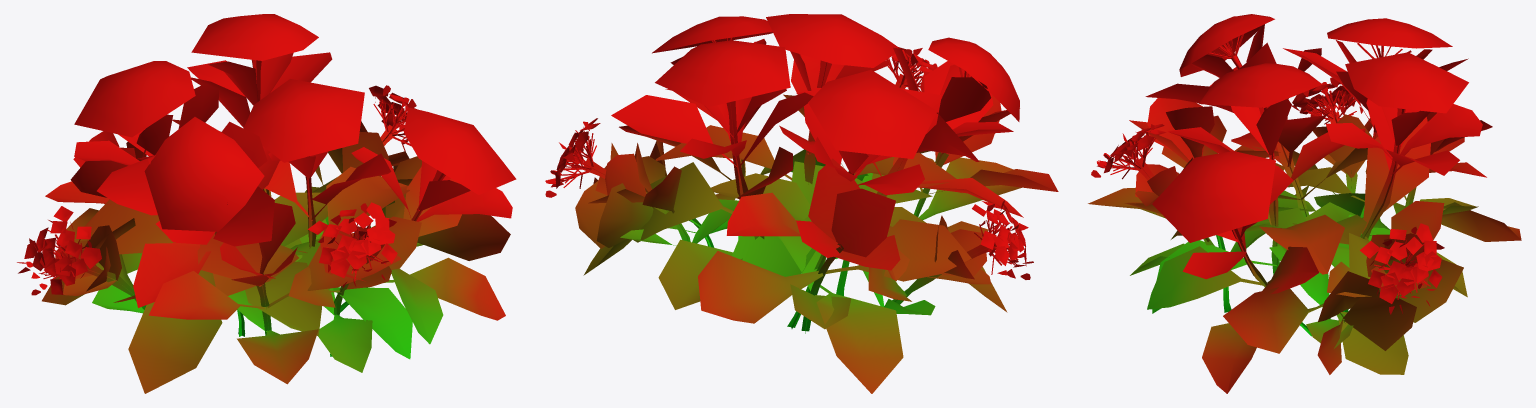
File: Var9_LOD4.fbx
3 views of the same model, side by side, from view 1: azimuth 30°, elevation 25°; view 2: azimuth 150°, elevation 25°; view 3: azimuth 270°, elevation 25° (orthographic). The views are drawn at different scales.
Visible parts, largest first — view 1: _ao73_Var9_LOD4; view 2: _ao73_Var9_LOD4; view 3: _ao73_Var9_LOD4.
Boxes of the visible parts, <box> form: _ao73_Var9_LOD4: <box>17,14,516,393</box>; _ao73_Var9_LOD4: <box>545,14,1058,393</box>; _ao73_Var9_LOD4: <box>1088,14,1521,393</box>.
Bounding box in the file's own units: 54.01 × 33.05 × 48.1.
